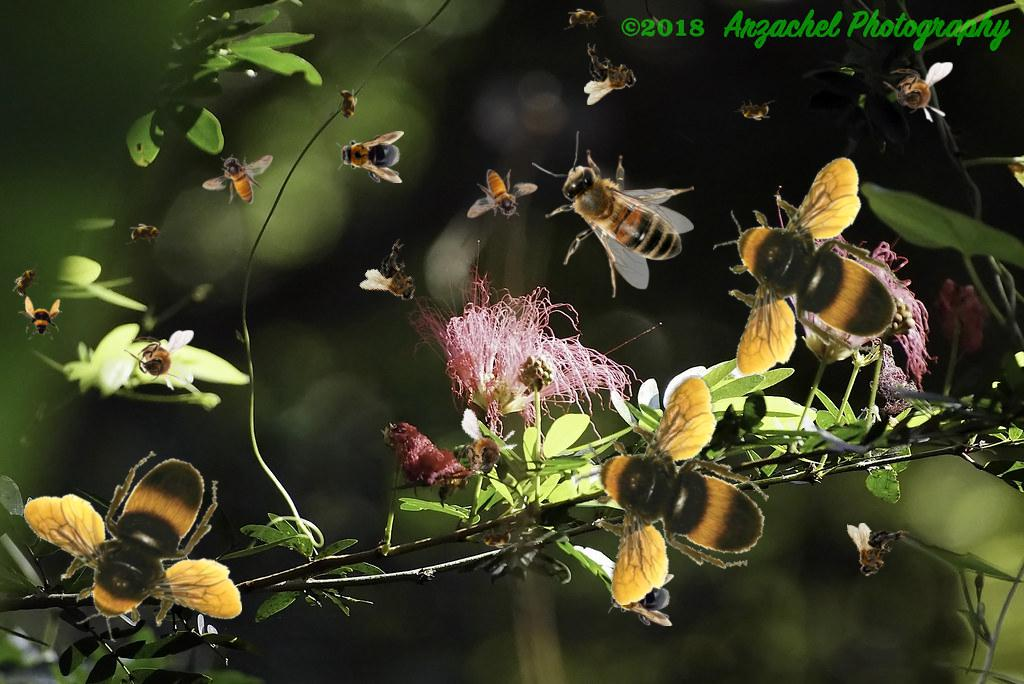Bee: (563, 367, 781, 610), (22, 451, 242, 642), (713, 156, 904, 376), (532, 131, 694, 298), (445, 407, 524, 493), (356, 236, 437, 318), (124, 330, 194, 391), (883, 62, 953, 123), (841, 521, 910, 581), (467, 169, 538, 219), (202, 154, 273, 204), (336, 131, 404, 183), (606, 574, 674, 626), (584, 43, 637, 105), (18, 296, 62, 340), (6, 259, 48, 305), (733, 97, 775, 123), (564, 8, 604, 30), (126, 223, 166, 245), (476, 527, 516, 549), (336, 85, 358, 125)
